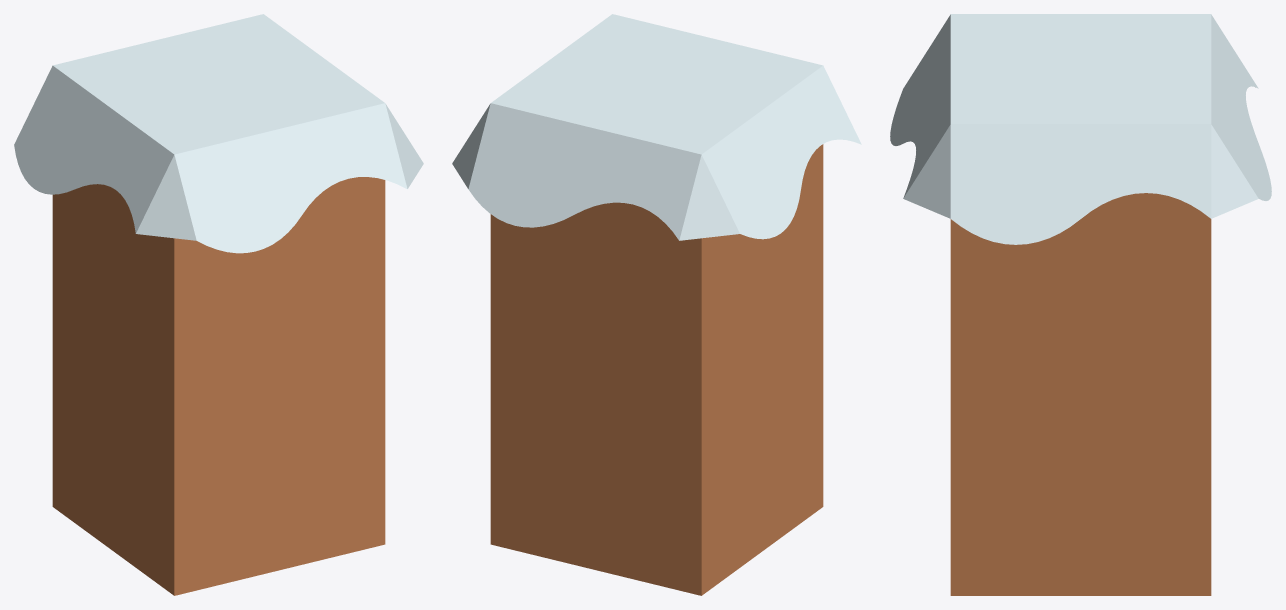
The model's file is blockSnowQuarter.dae.
3 views of the same model, side by side, from view 1: azimuth 30°, elevation 25°; view 2: azimuth 150°, elevation 25°; view 3: azimuth 270°, elevation 25° (orthographic). The views are drawn at different scales.
Visible parts, largest first — view 1: blockSnowQuarter; view 2: blockSnowQuarter; view 3: blockSnowQuarter.
Part boxes in pixels (x1,y1,x2,y2): blockSnowQuarter: (14,14,423,595); blockSnowQuarter: (452,14,861,595); blockSnowQuarter: (890,14,1271,595).
Size of the model in its own units: 0.733 by 1 by 0.733.
